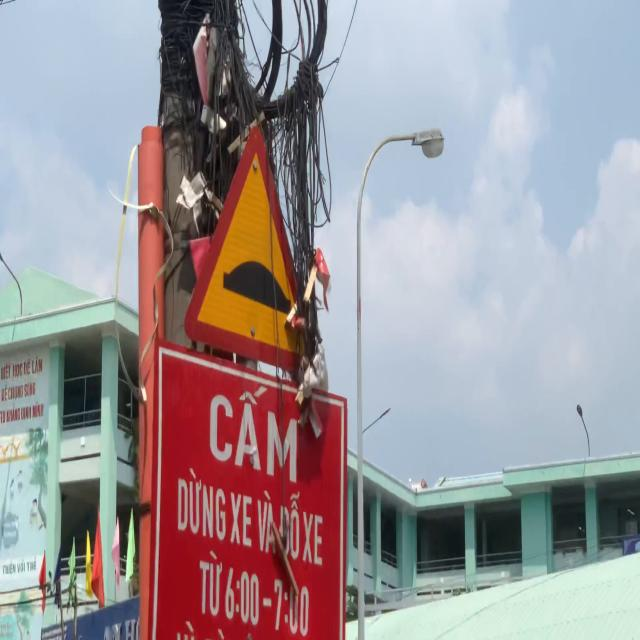Nguy hiem: (182, 113, 332, 390)
